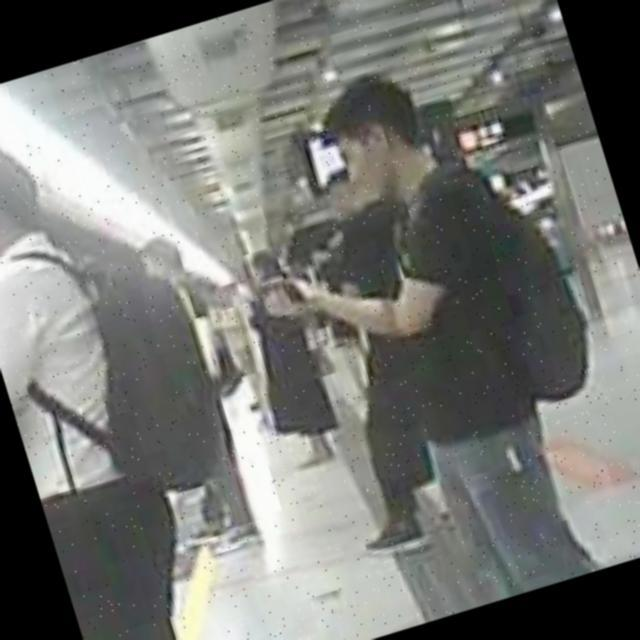person: (227, 48, 600, 634), (0, 102, 262, 640), (250, 150, 510, 563), (101, 228, 273, 562), (222, 237, 352, 473)
